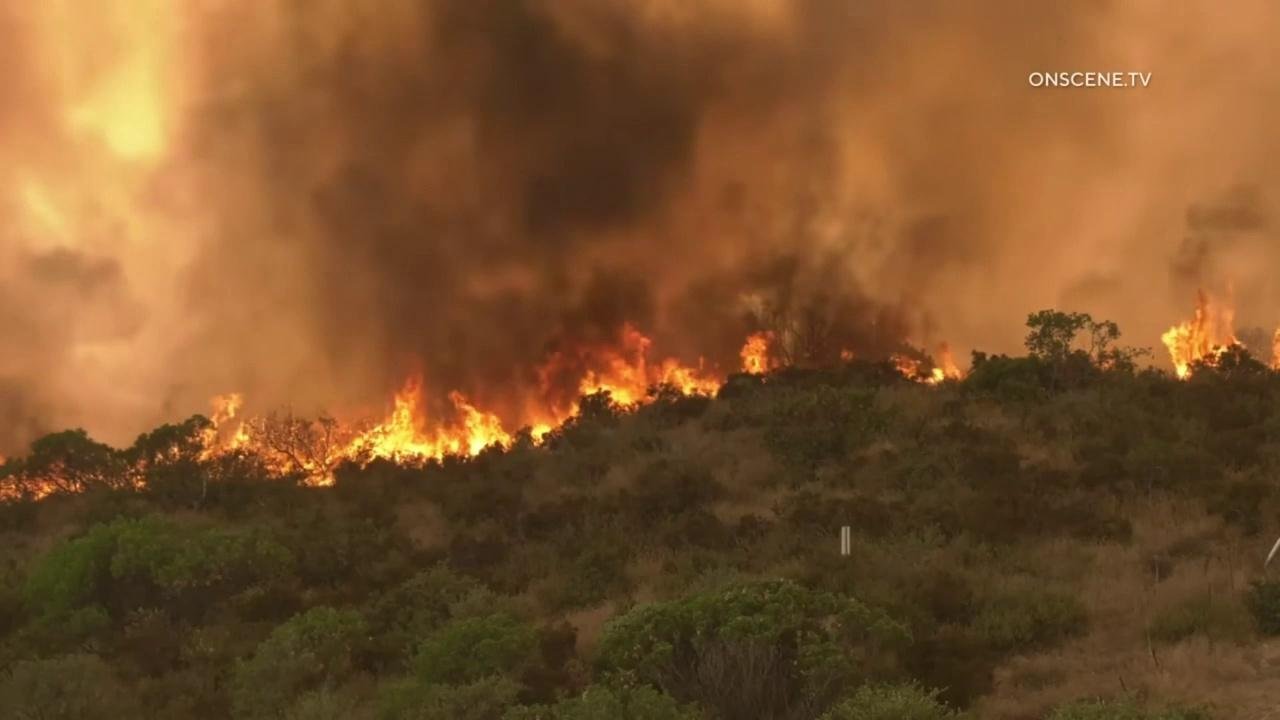fire: (187, 320, 729, 488), (0, 442, 181, 501), (1161, 289, 1248, 383), (894, 340, 968, 384), (739, 329, 779, 376), (1264, 327, 1280, 371), (1090, 351, 1115, 371), (840, 351, 849, 360)
smoke: (0, 0, 1280, 471)
